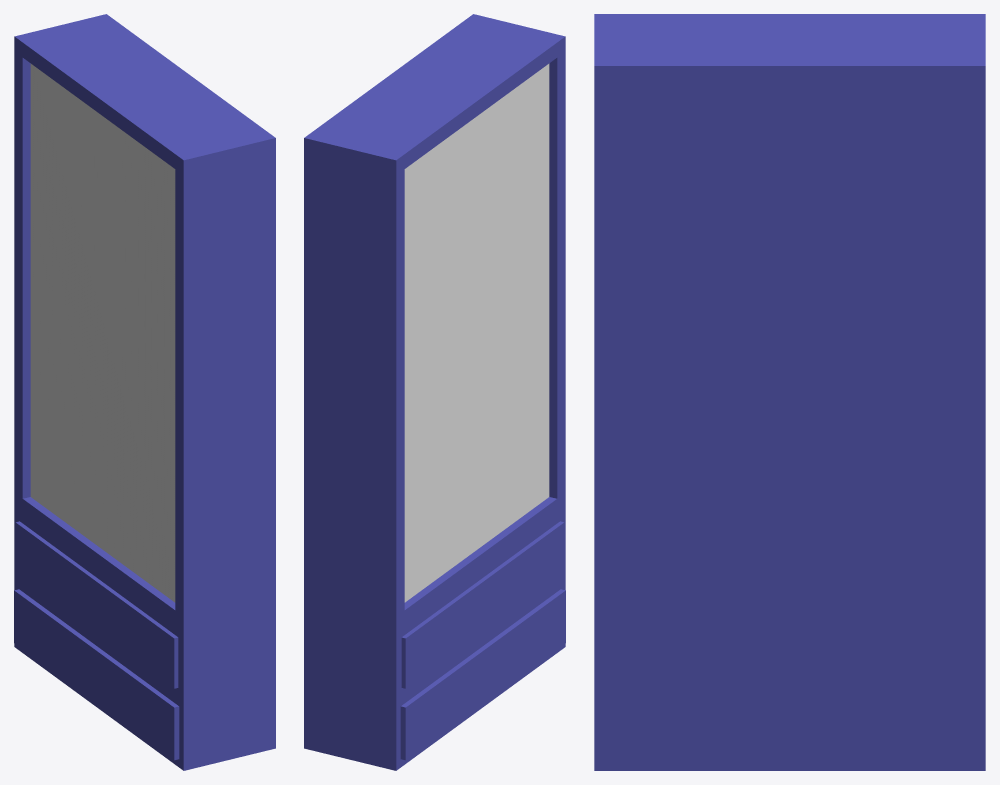
Rendered from Fridge.glb.
3 renders of one model, left to right at view 1: azimuth 30°, elevation 25°; view 2: azimuth 150°, elevation 25°; view 3: azimuth 270°, elevation 25°, orthographic. The views are drawn at different scales.
Parts seen in each view (by area): view 1: Cube.022; view 2: Cube.022; view 3: Cube.022.
Part boxes in pixels (x1=…): Cube.022: x1=14, y1=14, x2=275, y2=770; Cube.022: x1=304, y1=14, x2=565, y2=770; Cube.022: x1=594, y1=14, x2=985, y2=770.
Size of the model in its own units: 2.11 by 12.67 by 6.37.
